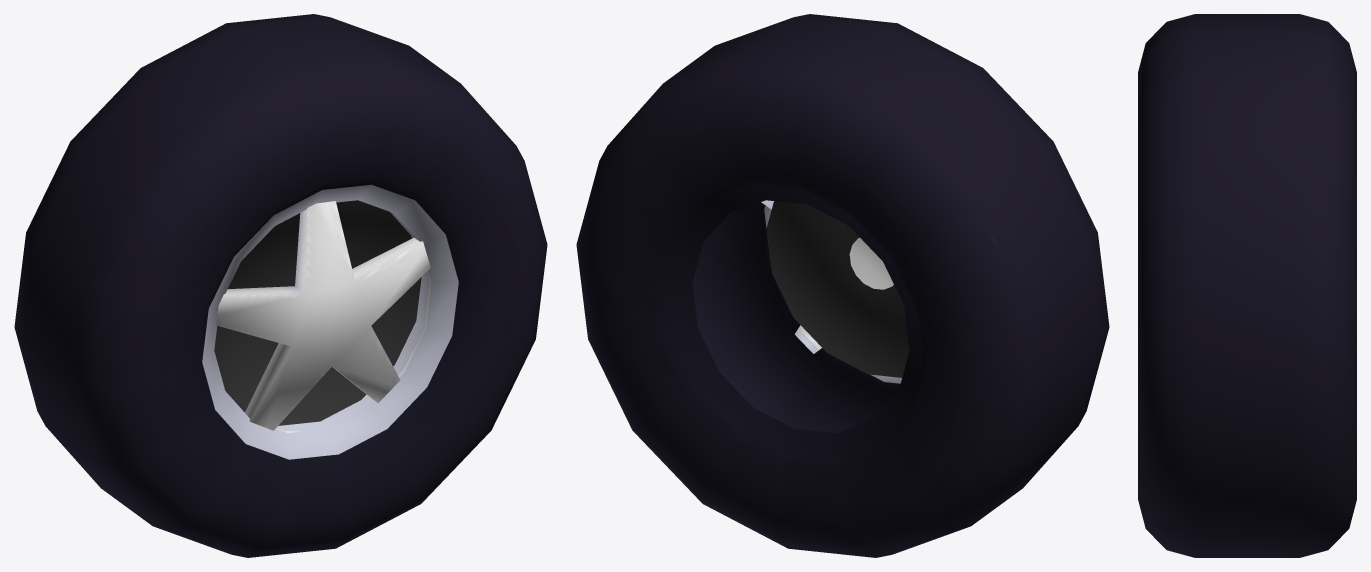
Rendered from tyre_1.glb.
3 renders of one model, left to right at view 1: azimuth 30°, elevation 25°; view 2: azimuth 150°, elevation 25°; view 3: azimuth 270°, elevation 25°, orthographic.
Parts seen in each view (by area): view 1: Wheel004_33, Wheel_disk003_34; view 2: Wheel004_33, Wheel_disk003_34; view 3: Wheel004_33.
Part boxes in pixels (box(x1,y1,x2,y2)): Wheel004_33: box(14, 14, 547, 557); Wheel_disk003_34: box(216, 201, 430, 430); Wheel004_33: box(576, 14, 1109, 557); Wheel_disk003_34: box(761, 200, 893, 353); Wheel004_33: box(1138, 14, 1356, 557).
Bounding box in the file's own units: 1.16 × 1.16 × 0.4679.
1 material, 1 textured.
